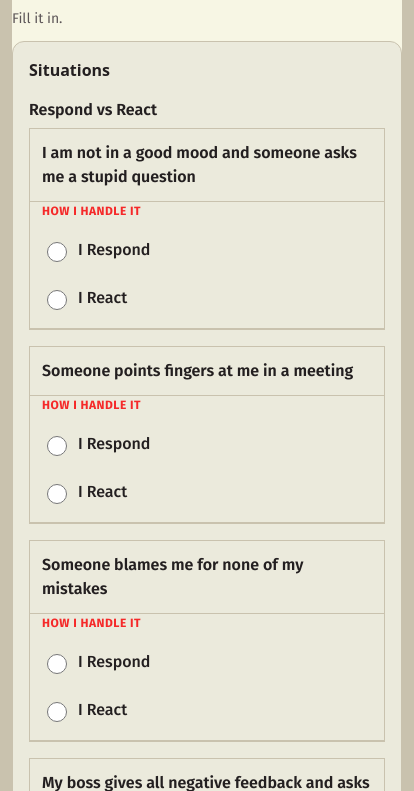
Test case: a questionnaire with a pick per row › counts each pick into the total as it is made
Click the radio button with aria-label "Someone points fingers at me in a meeting — I Respond" at (57, 446), box [47,436,67,456]
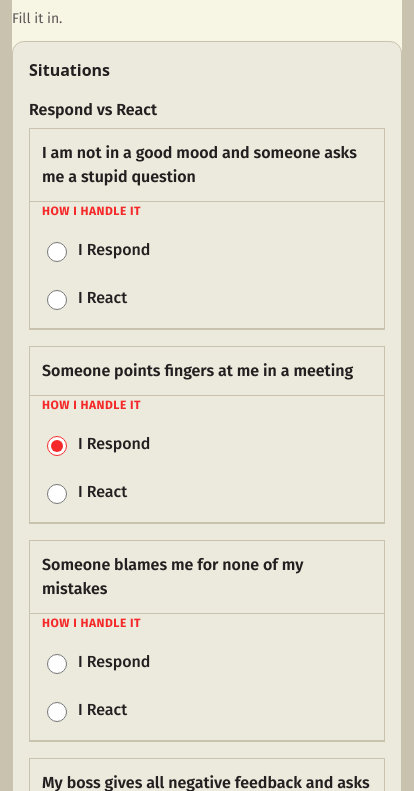
Click the radio button with aria-label "Someone blames me for none of my mistakes — I React" at (57, 712), box [47,702,67,722]
(page scrolled)
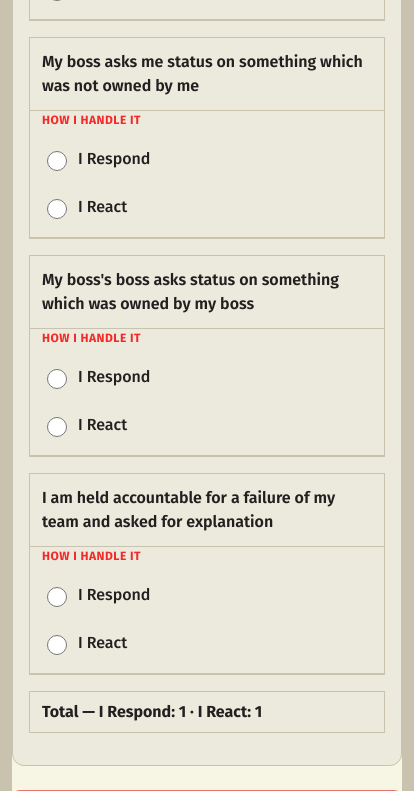
Expected: the text "Total — I Respond: 1 · I React: 1" is shown, [29,691,385,733]
